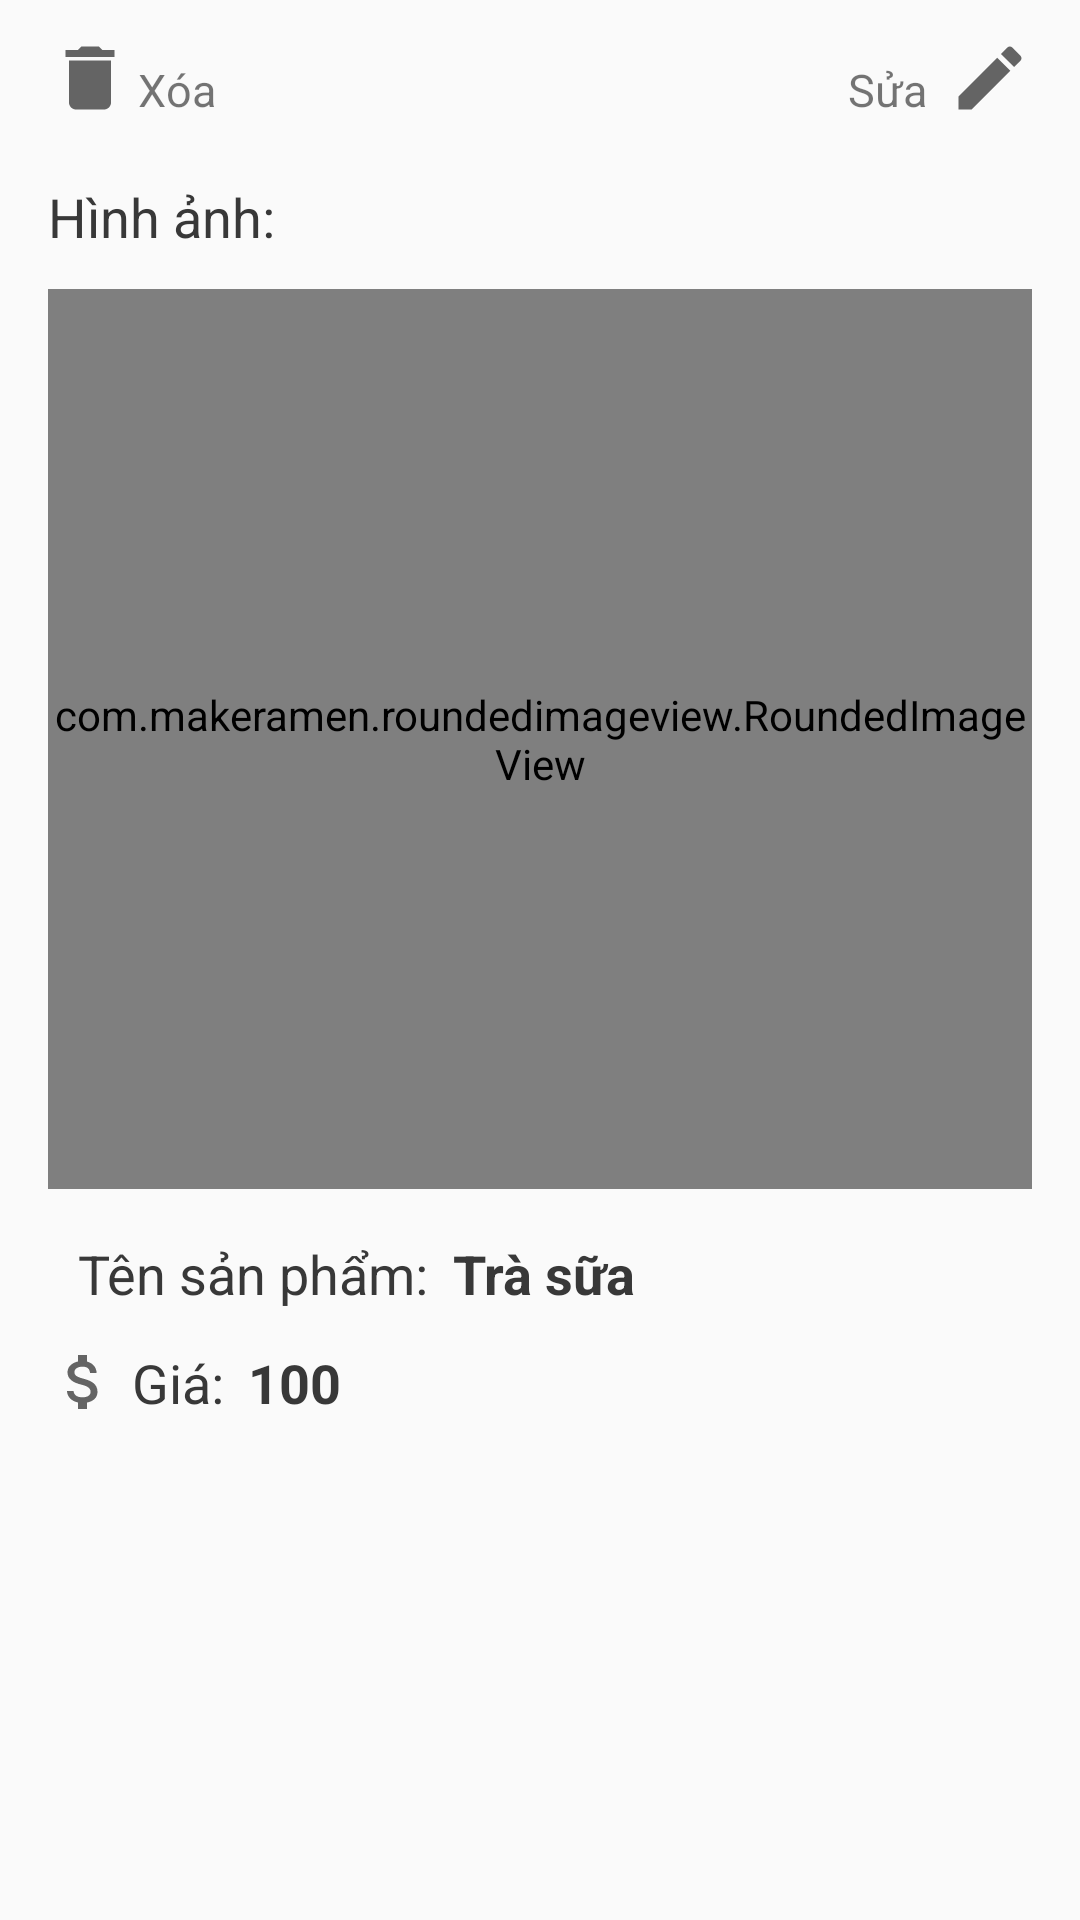

Locate icon controls on the screen. Image size 1080px x 1920px, boxes as bbox=[x1, y1, x2, y2].
attach money: bbox=[67, 1355, 98, 1409]
